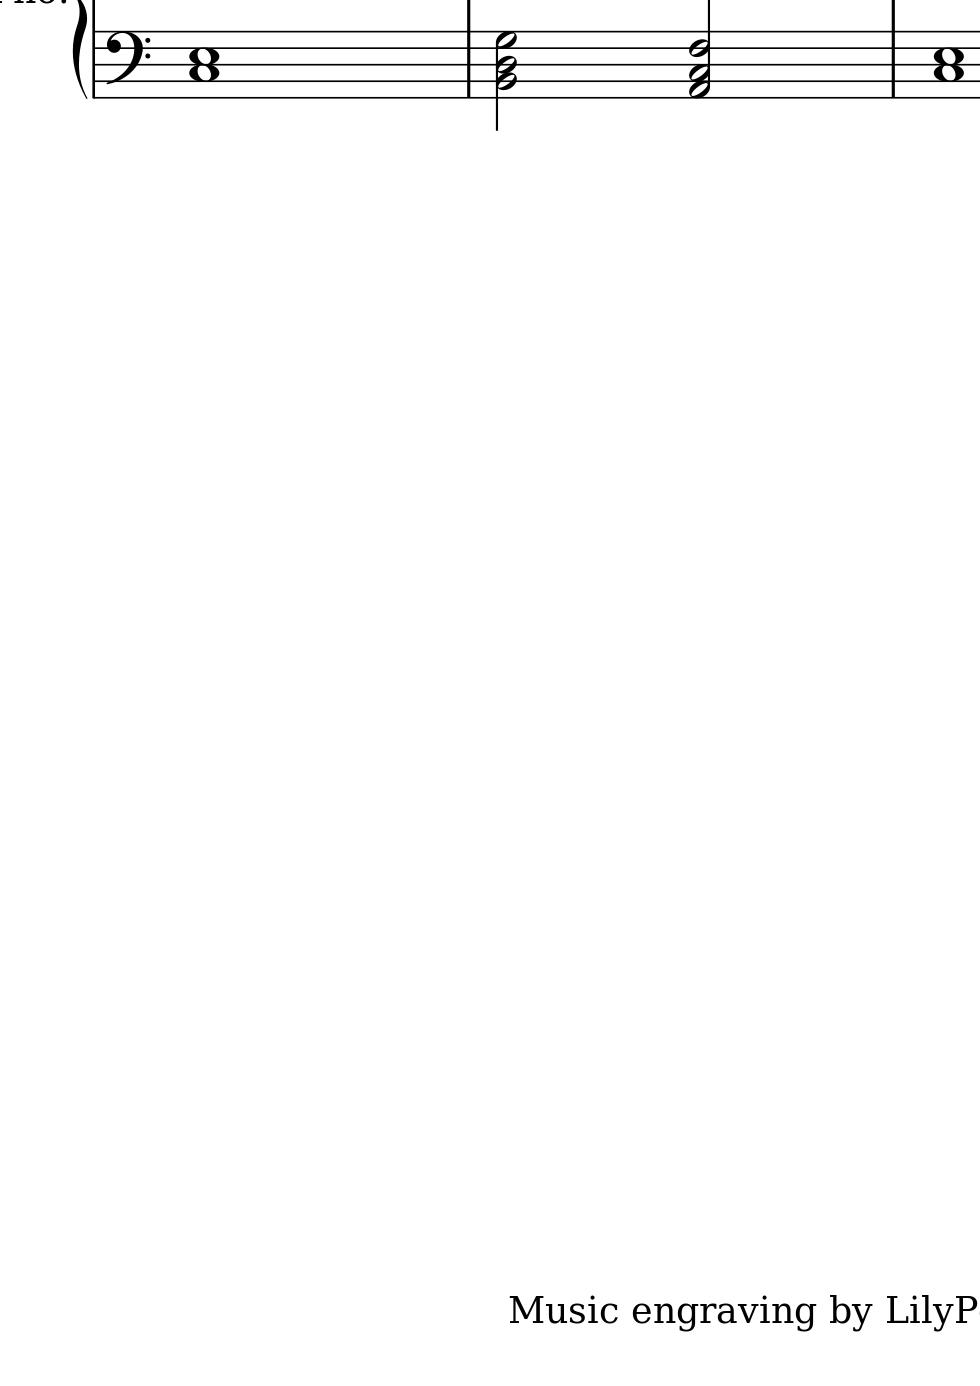1_3_5: (189, 29, 218, 100), (933, 29, 963, 100)
2_th: (686, 3, 713, 101), (493, 28, 517, 129)
Fclef: (99, 30, 151, 99)
Single_barline: (883, 31, 902, 98), (460, 31, 477, 99), (89, 31, 102, 99)
